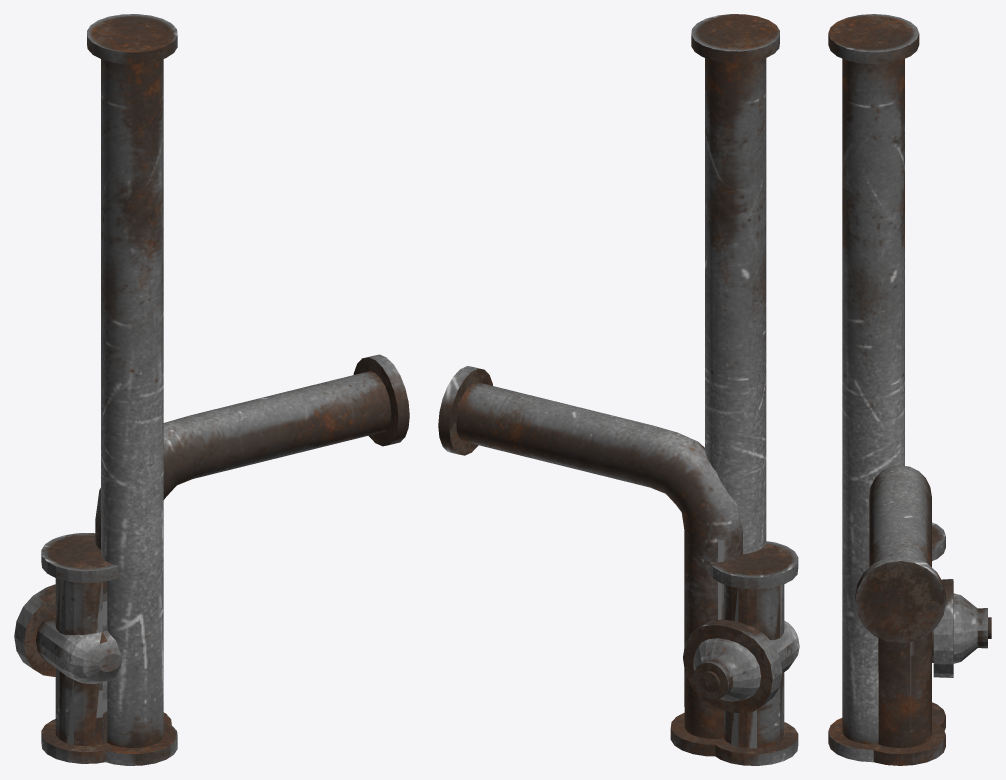
The model's file is pipeboot2.fbx.
3 views of the same model, side by side, from view 1: azimuth 30°, elevation 25°; view 2: azimuth 150°, elevation 25°; view 3: azimuth 270°, elevation 25° (orthographic). The views are drawn at different scales.
Parts seen in each view (by area): view 1: Group2, Group1, Group3; view 2: Group2, Group1, Group3; view 3: Group2, Group1, Group3.
Part boxes in pixels (x1,y1,x2,y2): Group2: (87, 14, 177, 765); Group1: (95, 354, 409, 724); Group3: (14, 533, 121, 763); Group2: (691, 14, 779, 553); Group1: (438, 366, 742, 756); Group3: (683, 541, 799, 765); Group2: (828, 14, 919, 762); Group1: (855, 465, 945, 765); Group3: (932, 522, 991, 730).
Bounding box in the file's own units: 79.78 × 157 × 32.79.
